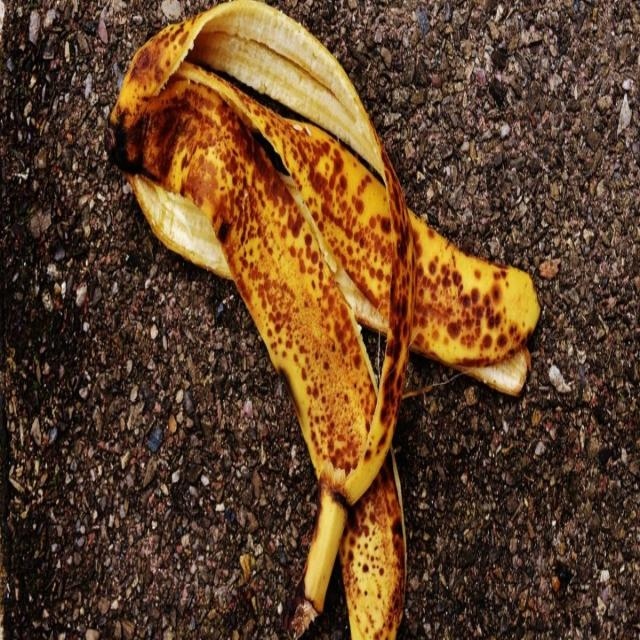Cascara de banano: (105, 1, 545, 631)
